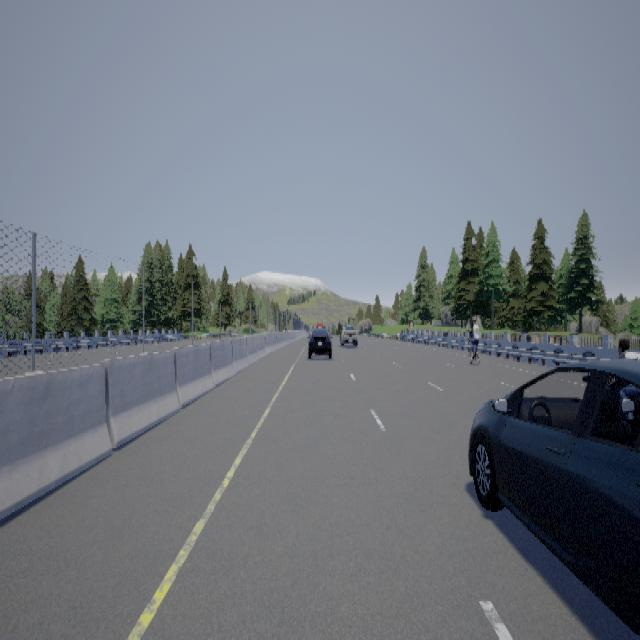bike: (464, 315, 483, 367)
vehicle: (467, 357, 639, 633), (306, 322, 332, 357), (339, 322, 359, 348)
